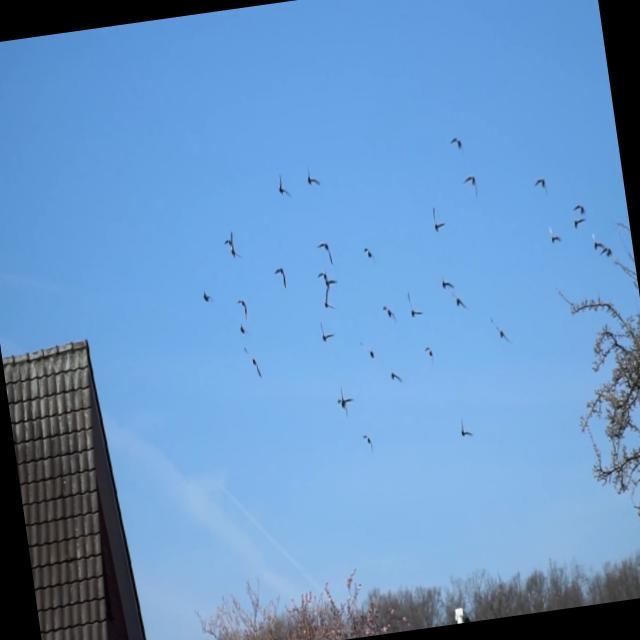bird: (489, 313, 516, 350), (334, 383, 357, 420), (406, 290, 426, 322), (314, 238, 335, 268), (449, 287, 470, 314), (461, 171, 480, 200), (276, 172, 293, 203), (304, 164, 323, 190), (458, 414, 475, 442), (431, 205, 447, 234), (382, 302, 399, 328), (437, 272, 457, 294), (531, 175, 550, 198), (319, 319, 336, 344), (273, 265, 288, 293), (546, 223, 564, 246), (423, 342, 437, 370), (320, 284, 335, 310), (387, 363, 403, 387), (361, 432, 376, 457), (359, 340, 376, 362), (237, 297, 252, 321), (449, 134, 465, 156), (363, 245, 378, 268), (201, 288, 216, 308), (221, 231, 237, 249), (324, 274, 340, 292), (571, 202, 590, 217), (228, 242, 242, 261), (237, 318, 250, 338), (251, 357, 263, 378), (592, 232, 605, 251), (573, 217, 589, 232), (598, 246, 614, 261), (317, 267, 329, 281)
